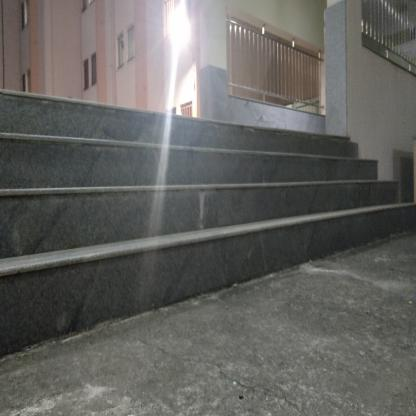stairs: (14, 131, 361, 285)
